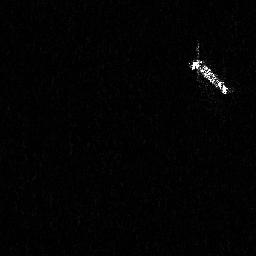ship: (188, 58, 230, 97)
